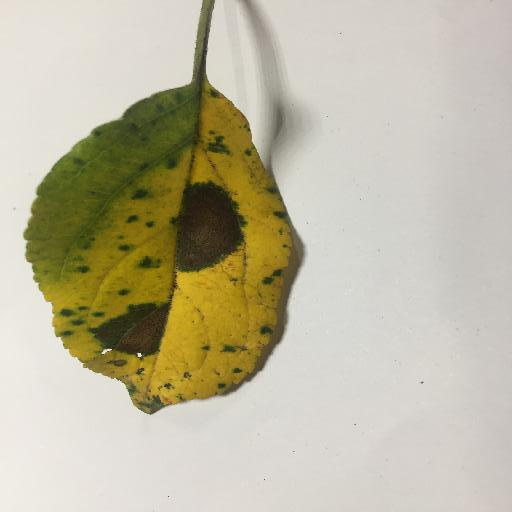Brown_Spot: (188, 187, 239, 260), (93, 304, 174, 348)
